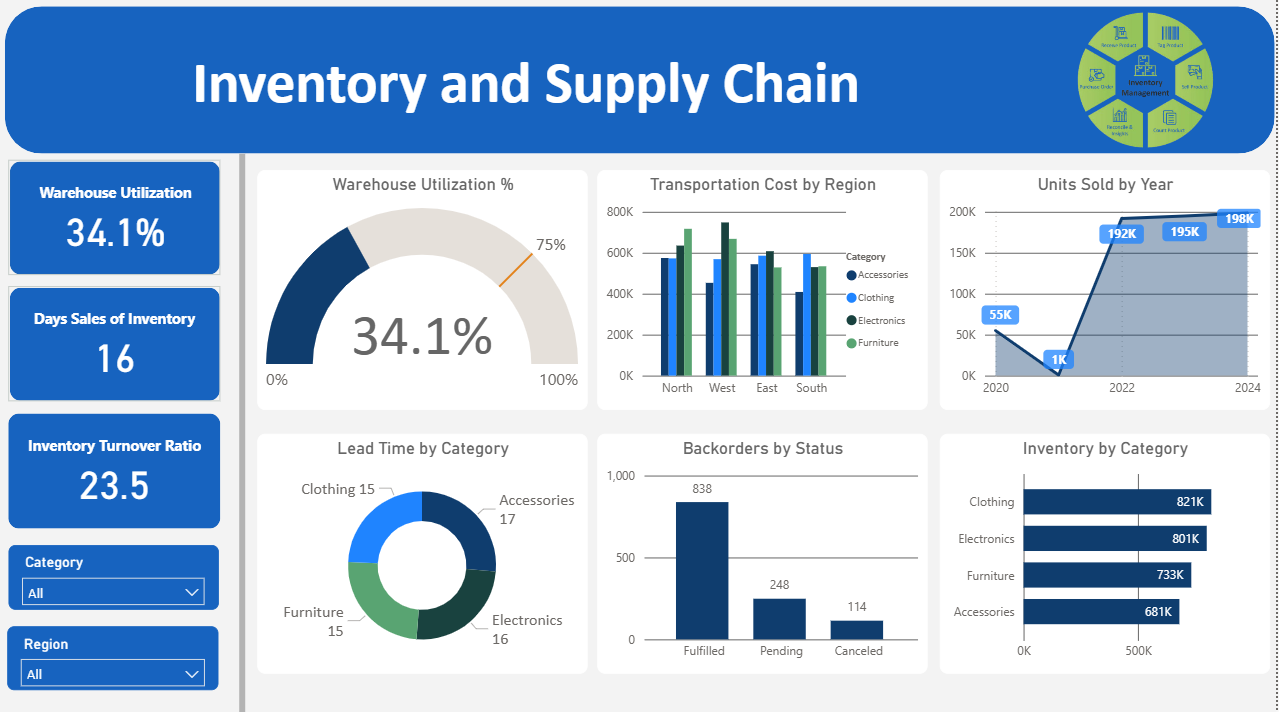

The page's visual inventory and layout, read from the dashboard file:
{"tool":"powerbi","page":{"name":"Dashboard","canvas":[1280,720],"ordinal":0},"visuals":[{"type":"shape","box":[8.8,11.2,1270,147.5],"z":0},{"type":"textbox","box":[191.2,46.2,860,92.5],"z":1},{"type":"image","box":[1018.8,8.8,261.2,152.5],"z":2},{"type":"shape","box":[231,158.3,29.9,560.5],"z":3},{"type":"cardVisual","fields":{"Data":["Inventory and Supply Chain.Warehouse Utilization %"]},"box":[7.2,160.1,222.2,125],"z":4},{"type":"cardVisual","fields":{"Data":["Inventory and Supply Chain.Days Sales of Inventory"]},"box":[7.2,285.7,222.2,125],"z":5},{"type":"cardVisual","fields":{"Data":["Inventory and Supply Chain.Inventory Turnover Ratio"]},"box":[7.2,414.1,222.2,125],"z":6},{"type":"slicer","fields":{"Values":["Inventory and Supply Chain.Region"]},"box":[11.2,631.2,211.2,63.8],"z":7},{"type":"slicer","fields":{"Values":["Inventory and Supply Chain.Category"]},"box":[12.5,550,210,65],"z":8},{"type":"gauge","fields":{"Y":["Inventory and Supply Chain.Warehouse Utilization %"]},"box":[261.2,175,330,240],"z":9},{"type":"clusteredColumnChart","title":"Transportation Cost by Region","fields":{"Y":["Sum(Inventory and Supply Chain.Transportation Cost)"],"Category":["Inventory and Supply Chain.Region"],"Series":["Inventory and Supply Chain.Category"]},"box":[601.2,175,330,240],"z":10},{"type":"lineChart","title":"Units Sold by Year","fields":{"Y":["Sum(Inventory and Supply Chain.Units Sold)"],"Category":["Inventory and Supply Chain.Date.Variation.Date Hierarchy.Year"]},"box":[943.8,175,330,240],"z":11},{"type":"donutChart","title":"Lead Time by Category","fields":{"Y":["Avg(Inventory and Supply Chain.Lead Time (Days))"],"Category":["Inventory and Supply Chain.Category"]},"box":[261.2,438.8,330,240],"z":12},{"type":"columnChart","title":"Backorders by Status","fields":{"Y":["CountNonNull(Inventory and Supply Chain.Backorder)"],"Category":["Inventory and Supply Chain.Order Status"]},"box":[601.2,438.8,330,240],"z":13},{"type":"clusteredBarChart","title":"Inventory by Category","fields":{"Category":["Inventory and Supply Chain.Category"],"Y":["Sum(Inventory and Supply Chain.Inventory Level)"]},"box":[943.8,438.8,330,240],"z":14}]}

Visuals, with their boxes in screenshot pixels (x1, y1, x2, y2), scaled from the page's 1280x720 canvas onto the 1279x712 screenshot:
shape: detection(9, 11, 1278, 157)
textbox: detection(191, 46, 1050, 137)
image: detection(1018, 9, 1278, 160)
shape: detection(231, 157, 261, 711)
cardVisual - Inventory and Supply Chain.Warehouse Utilization %: detection(7, 158, 229, 282)
cardVisual - Inventory and Supply Chain.Days Sales of Inventory: detection(7, 283, 229, 406)
cardVisual - Inventory and Supply Chain.Inventory Turnover Ratio: detection(7, 409, 229, 533)
slicer - Inventory and Supply Chain.Region: detection(11, 624, 222, 687)
slicer - Inventory and Supply Chain.Category: detection(12, 544, 222, 608)
gauge - Inventory and Supply Chain.Warehouse Utilization %: detection(261, 173, 591, 410)
"Transportation Cost by Region" clusteredColumnChart: detection(601, 173, 930, 410)
"Units Sold by Year" lineChart: detection(943, 173, 1273, 410)
"Lead Time by Category" donutChart: detection(261, 434, 591, 671)
"Backorders by Status" columnChart: detection(601, 434, 930, 671)
"Inventory by Category" clusteredBarChart: detection(943, 434, 1273, 671)
